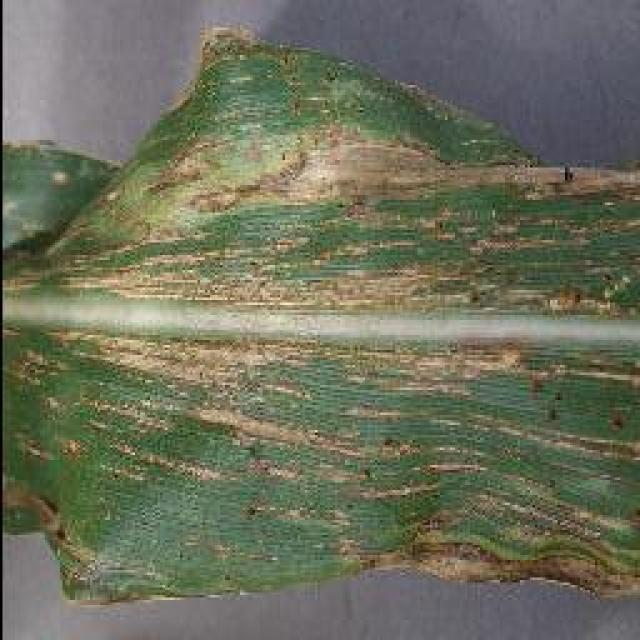Corn_Grey_Leaf_Spot: (2, 108, 640, 582)
